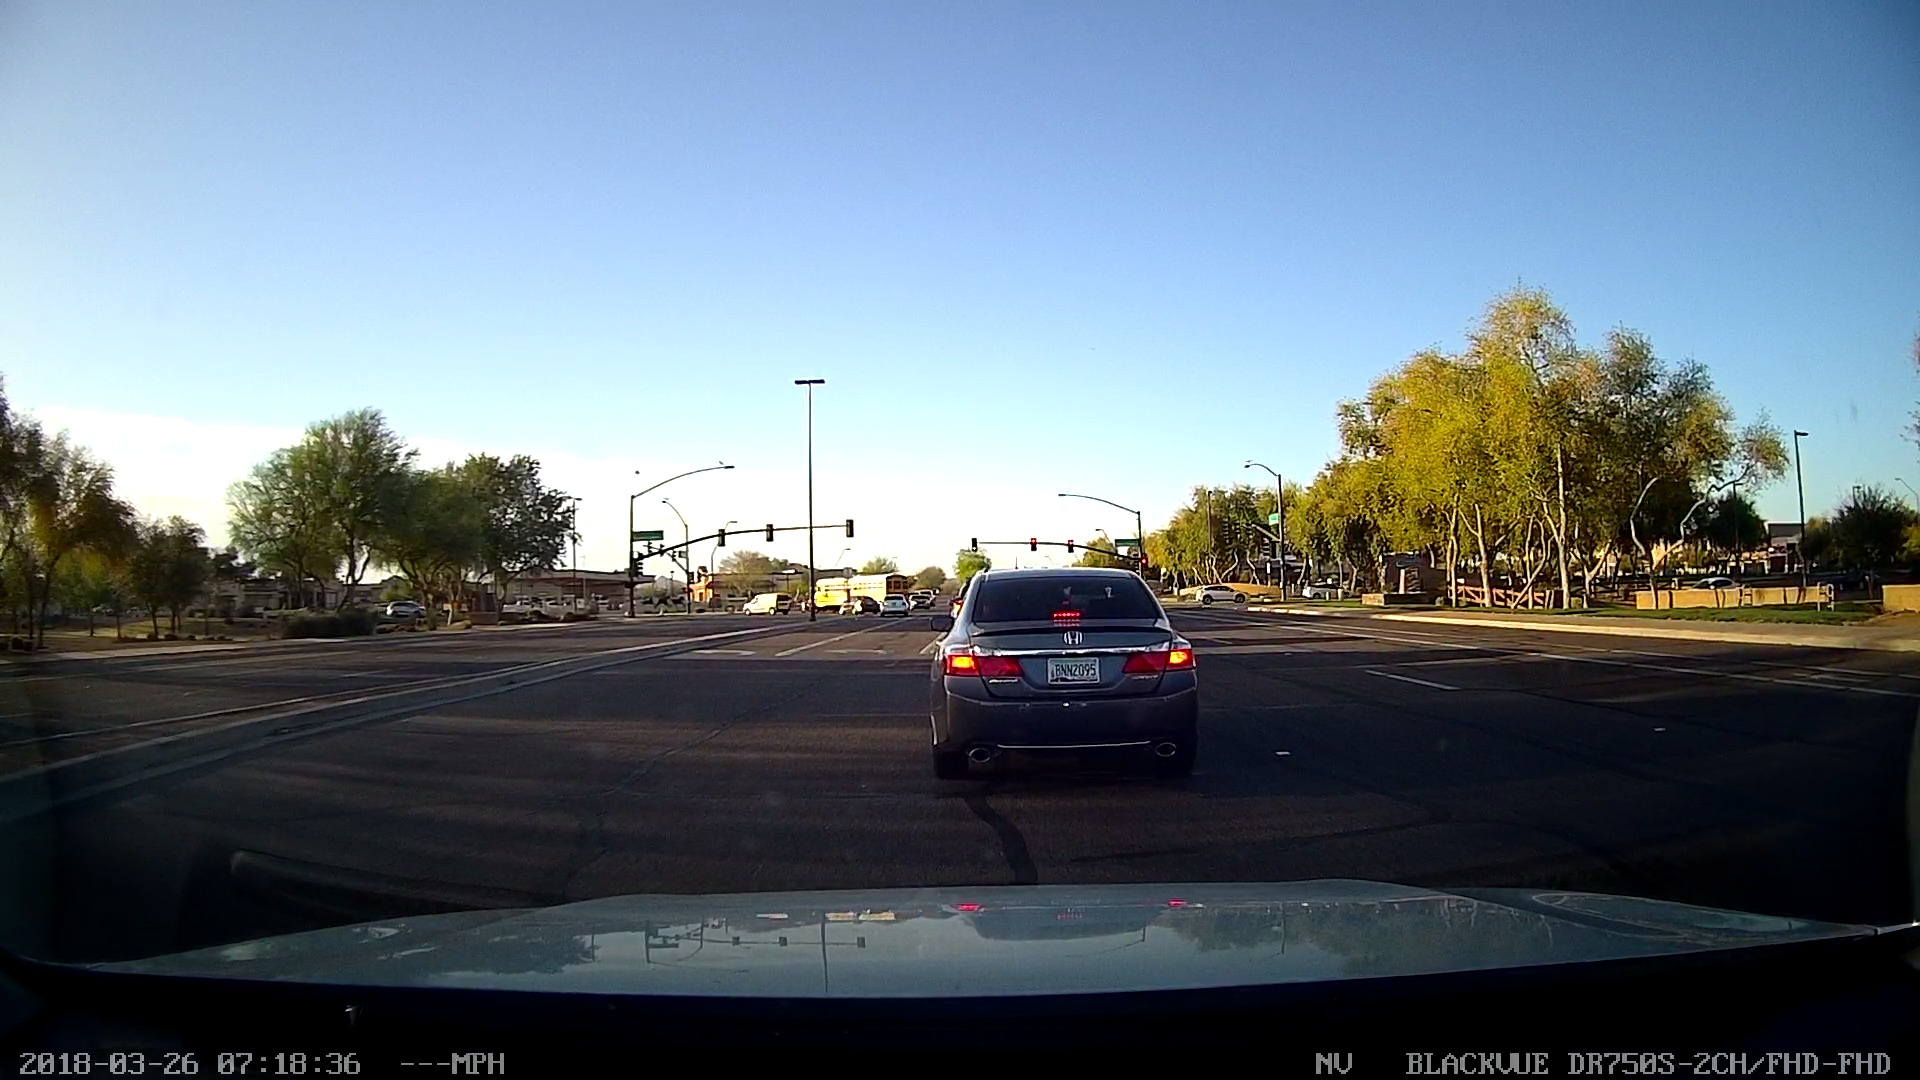vehicle: (920, 563, 1220, 791), (1033, 640, 1113, 700)
